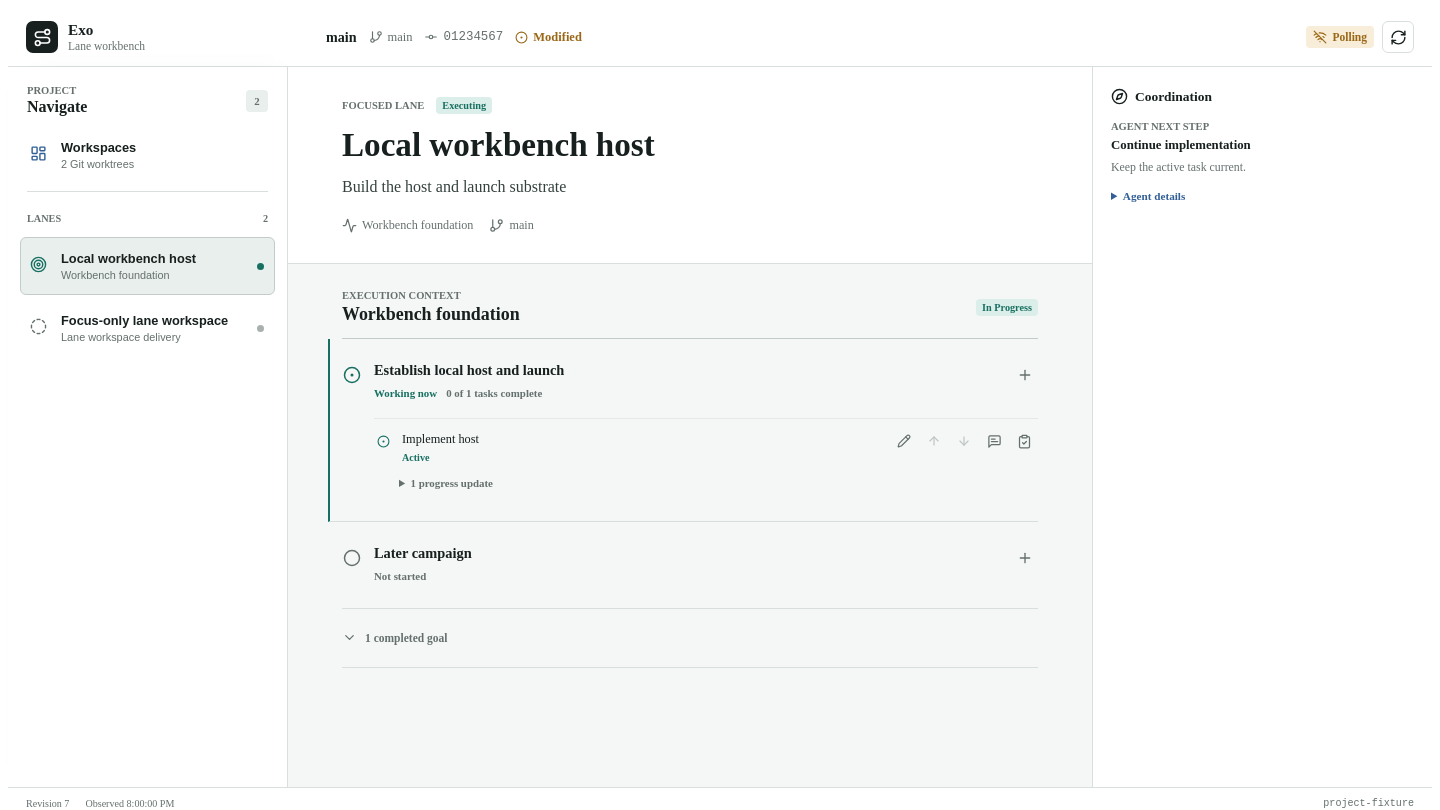
Test: focus-only lane workbench › puts active goals first and uses a native disclosure for completed goals
expect the text "Working now" is shown: met, box [374,386,437,401]
Step 1. Click the heading "1 completed goal" → (395, 638), box [342,630,448,645]
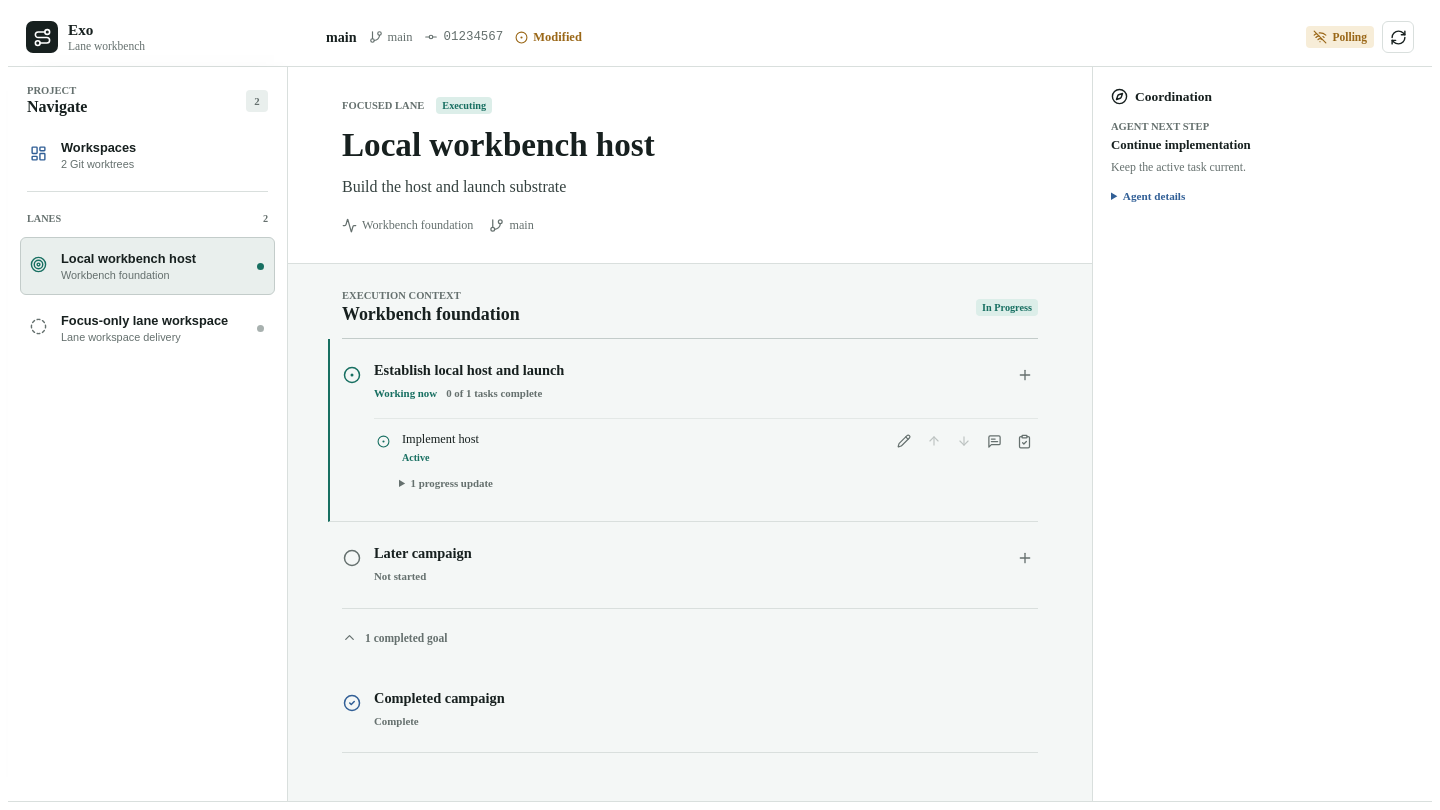
expect the heading "Completed campaign" is shown: met, box [374,690,505,706]
